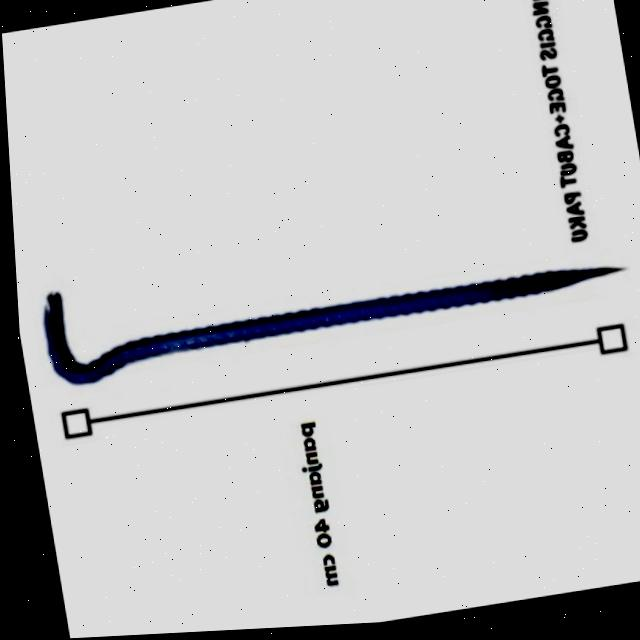crow bar: (25, 261, 623, 398)
